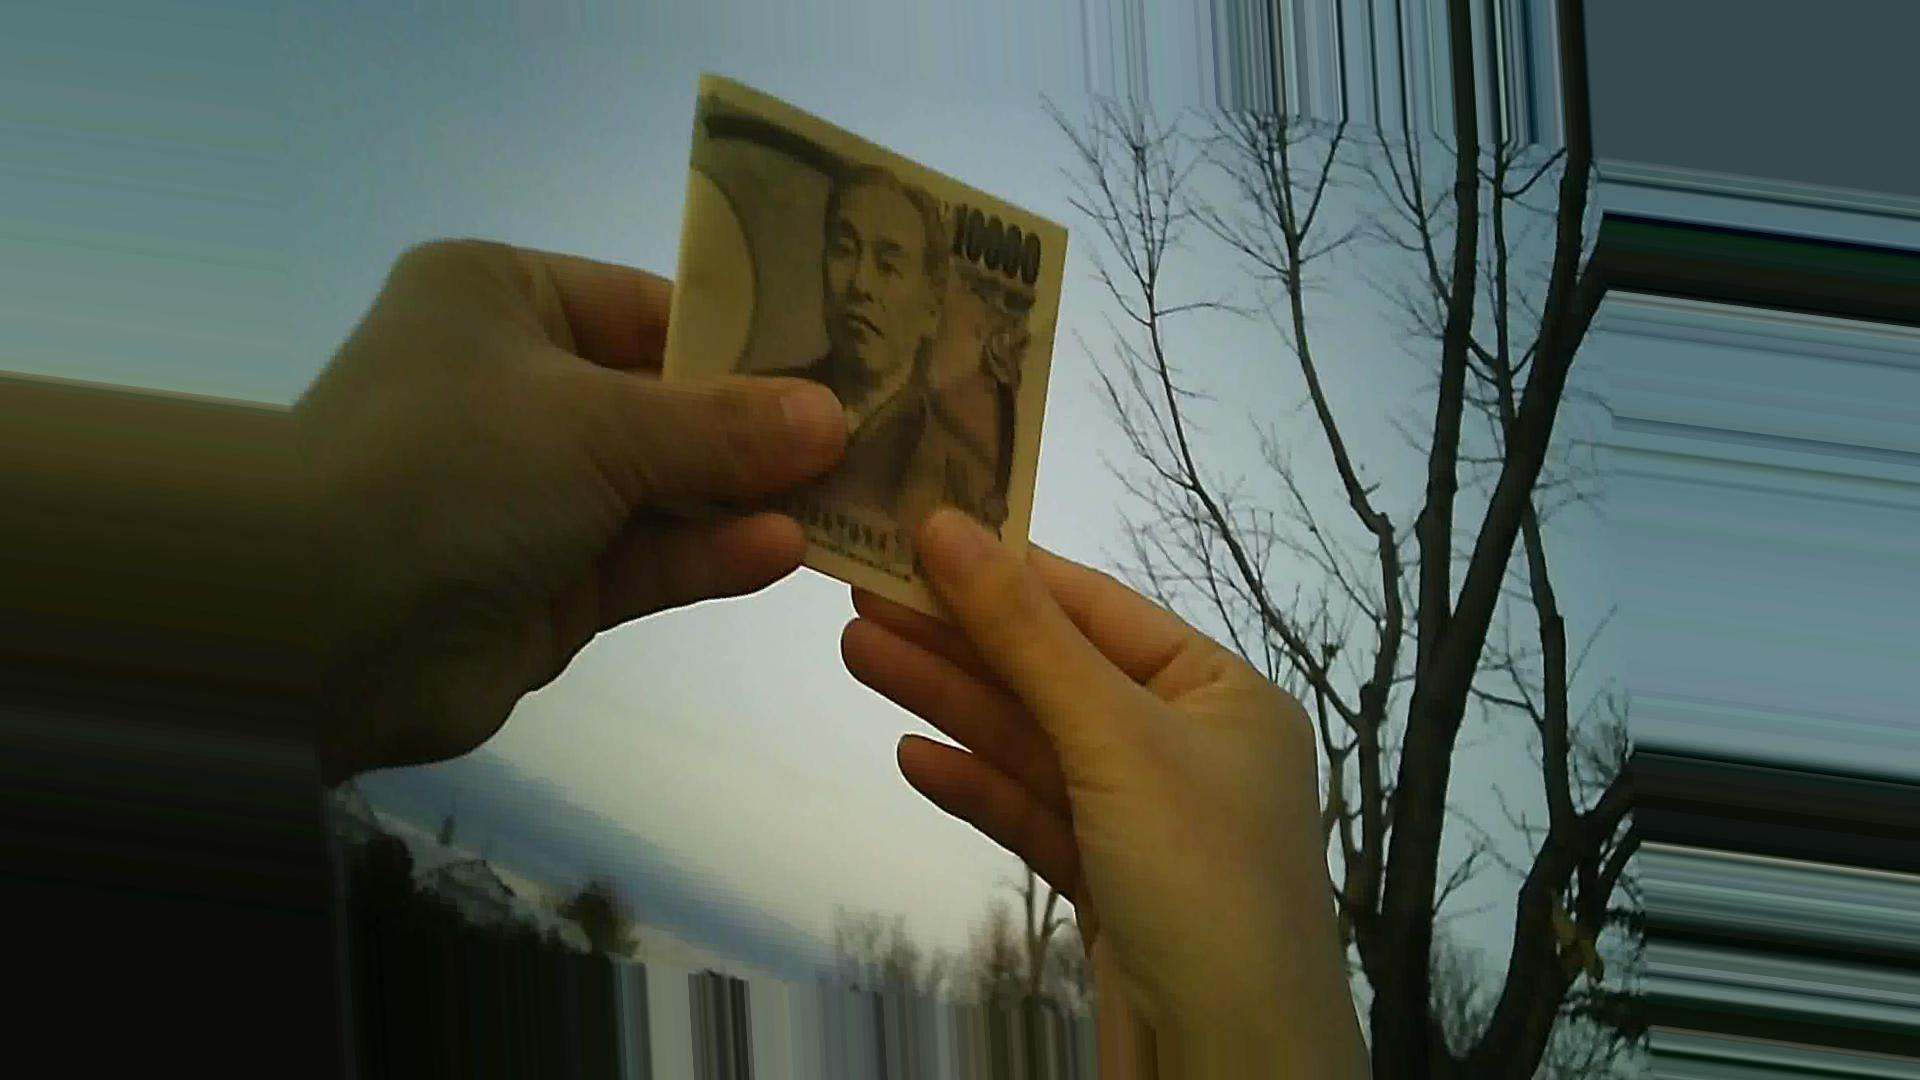10,000 Yen: (637, 61, 1083, 616)
